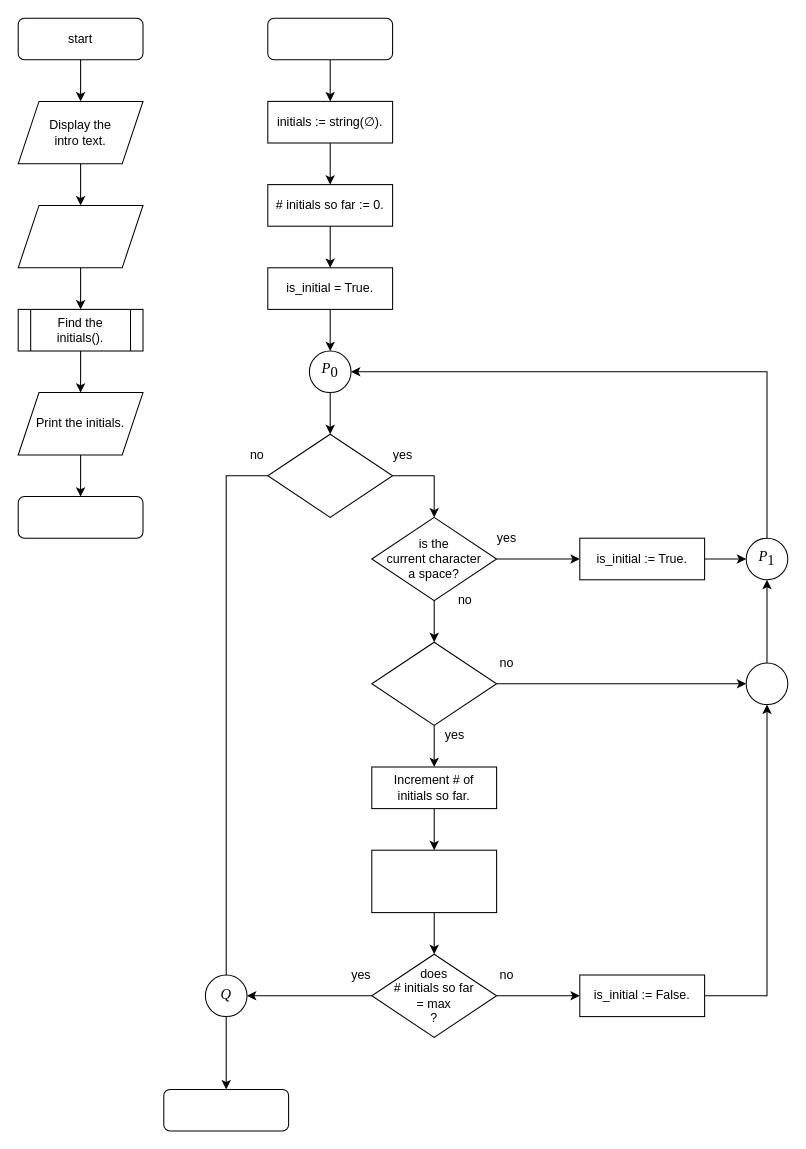
Image size: 806x1149. Some labels were removed from this diagram. The centre of each missing label's shape, as x and y in pixels:
"Accept a name string." belongs at point (80, 236).
"Append (the current character + '. ') to the initials." belongs at point (434, 881).
"Find the initials()" belongs at point (330, 38).
"finish" belongs at point (80, 517).
"is_initial ?" belongs at point (434, 683).
"more characters in name?" belongs at point (330, 475).
"P 2" belongs at point (766, 683).
"return initials." belongs at point (226, 1109).
